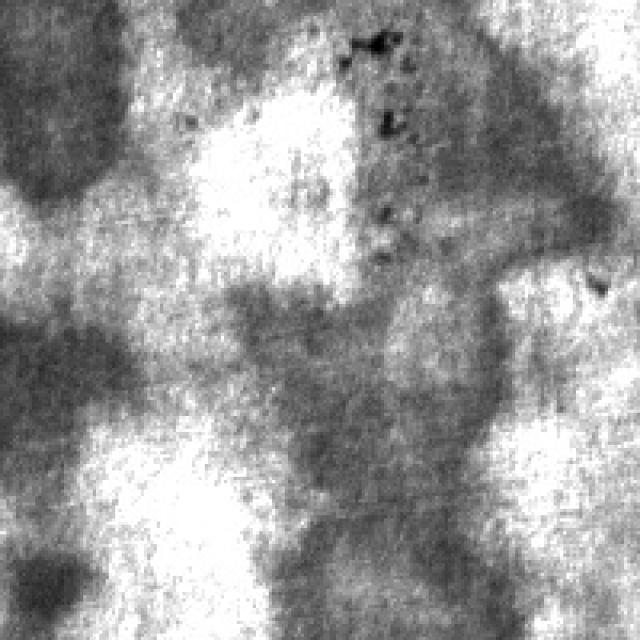patches: (221, 278, 518, 630), (339, 0, 624, 330), (0, 300, 144, 538), (3, 0, 154, 208), (172, 0, 326, 102), (0, 531, 99, 637)
